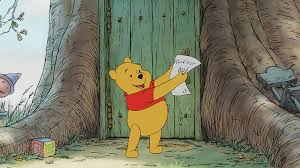Winnie: (108, 54, 160, 108)
